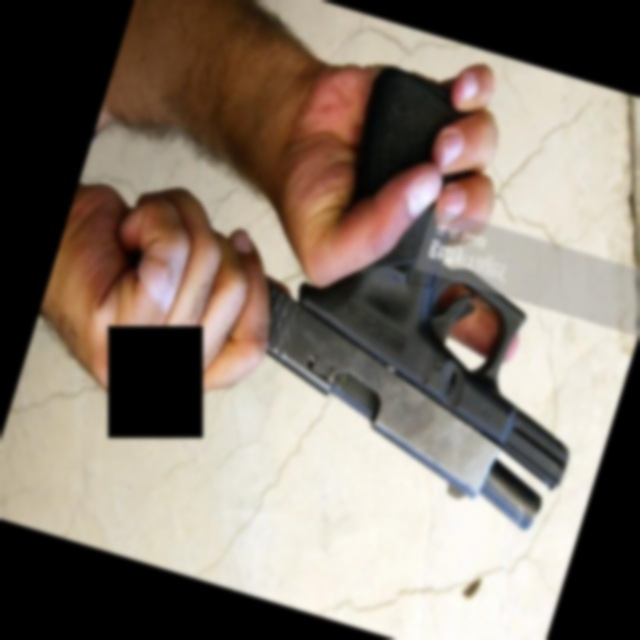gun: (221, 49, 640, 543)
